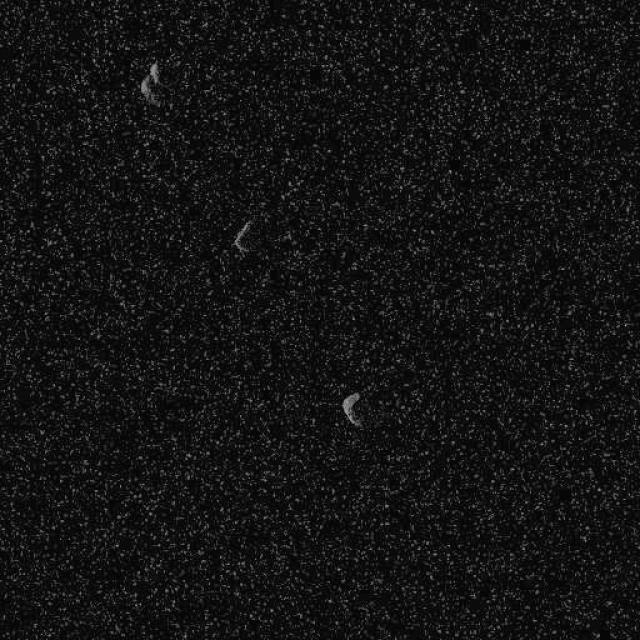D2: (138, 60, 164, 106), (340, 390, 364, 429), (230, 217, 252, 255)
